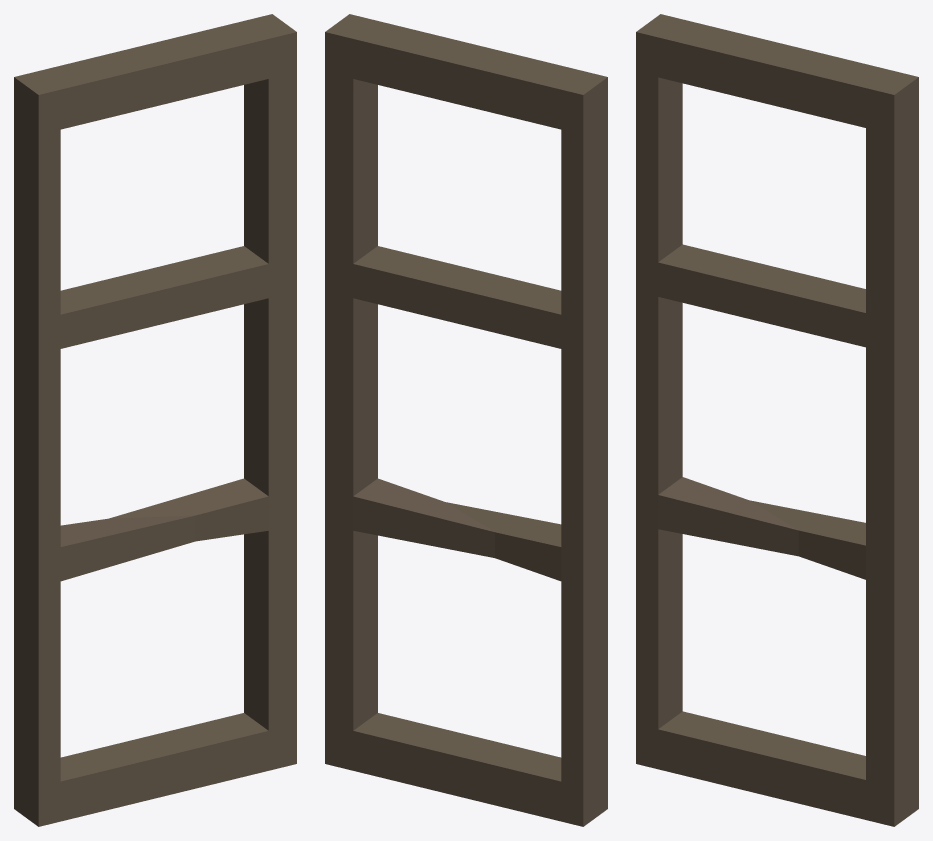
Rendered from SM_Bld_Village_Window_Fold_L_02.fbx.
3 renders of one model, left to right at view 1: azimuth 30°, elevation 25°; view 2: azimuth 150°, elevation 25°; view 3: azimuth 330°, elevation 25°, orthographic.
Parts seen in each view (by area): view 1: SM_Bld_Village_Window_Fold_L_02; view 2: SM_Bld_Village_Window_Fold_L_02; view 3: SM_Bld_Village_Window_Fold_L_02.
Boxes of the visible parts, x1,y1,x2,y2 form: SM_Bld_Village_Window_Fold_L_02: (14,14,296,826); SM_Bld_Village_Window_Fold_L_02: (325,14,607,826); SM_Bld_Village_Window_Fold_L_02: (636,14,918,826).
Size of the model in its own units: 50.26 by 136 by 8.29.
